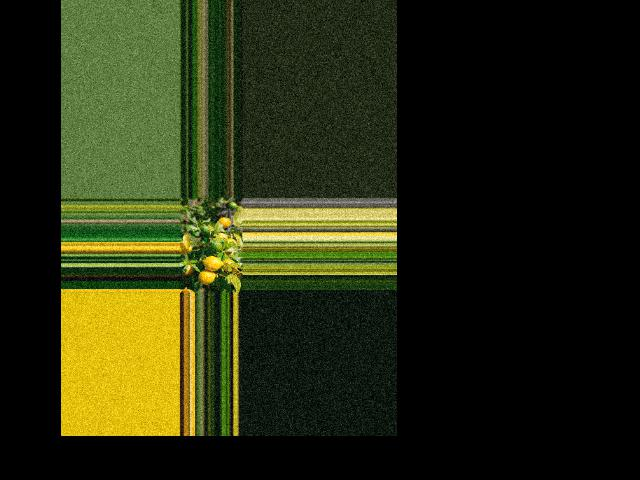lemon: (214, 214, 232, 228)
